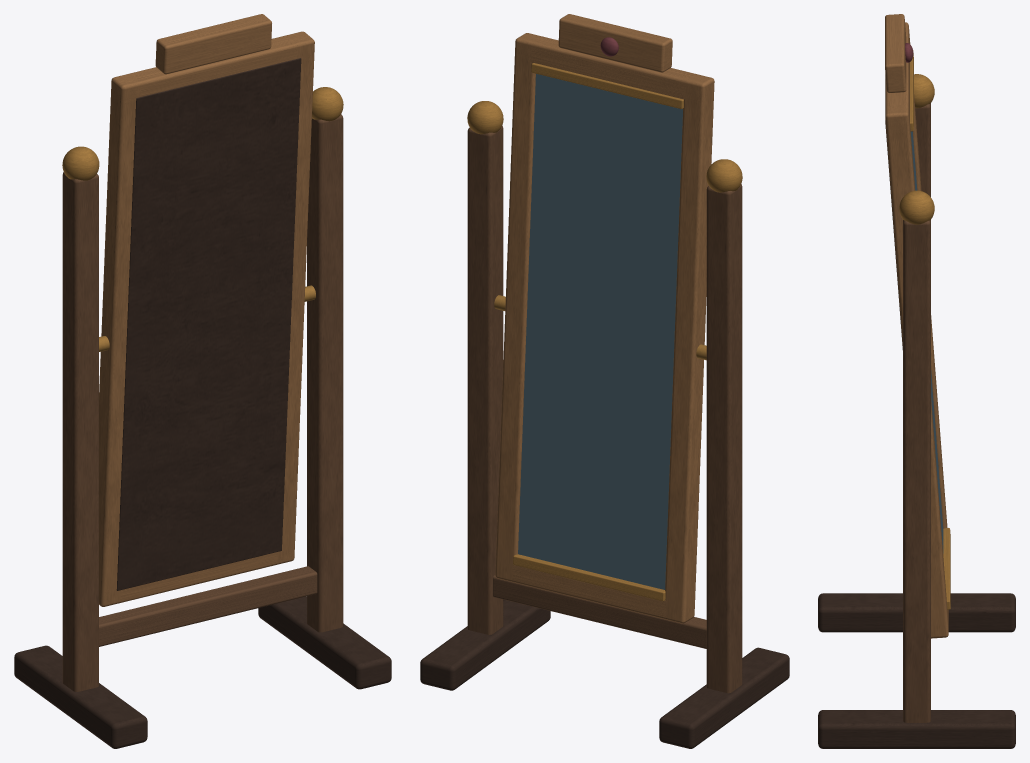
The model's file is standing_mirror.glb.
The picture shows the model from 3 angles, left to right: view 1: azimuth 30°, elevation 25°; view 2: azimuth 150°, elevation 25°; view 3: azimuth 270°, elevation 25°; orthographic projection. The views are drawn at different scales.
Visible parts, largest first — view 1: standing_mirror; view 2: standing_mirror; view 3: standing_mirror.
Boxes of the visible parts, x1,y1,x2,y2 form: standing_mirror: [14, 14, 391, 748]; standing_mirror: [420, 14, 789, 748]; standing_mirror: [818, 14, 1015, 748].
Bounding box in the file's own units: 0.8 × 1.8 × 0.5.
Materials: 1 (1 with a texture image).
